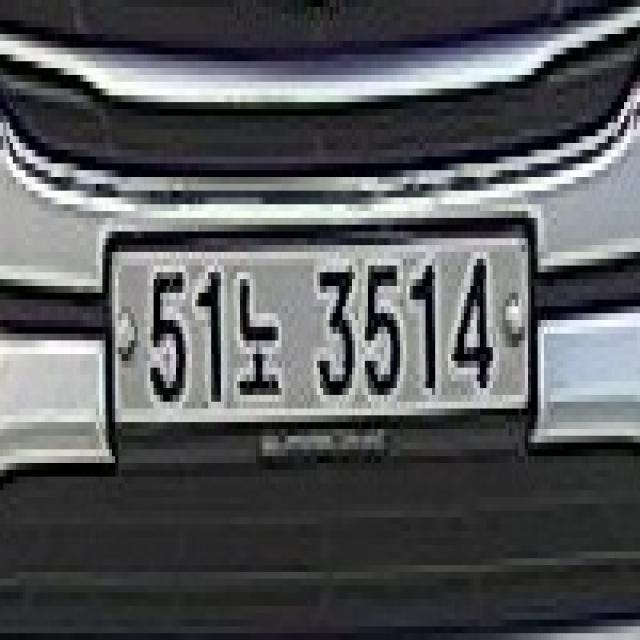1: (197, 258, 232, 414), (410, 251, 444, 397)
3: (316, 250, 356, 402)
4: (452, 250, 504, 398)
5: (146, 258, 192, 411), (365, 254, 405, 408)
license_plate: (99, 202, 541, 448)
no: (239, 260, 284, 404)
